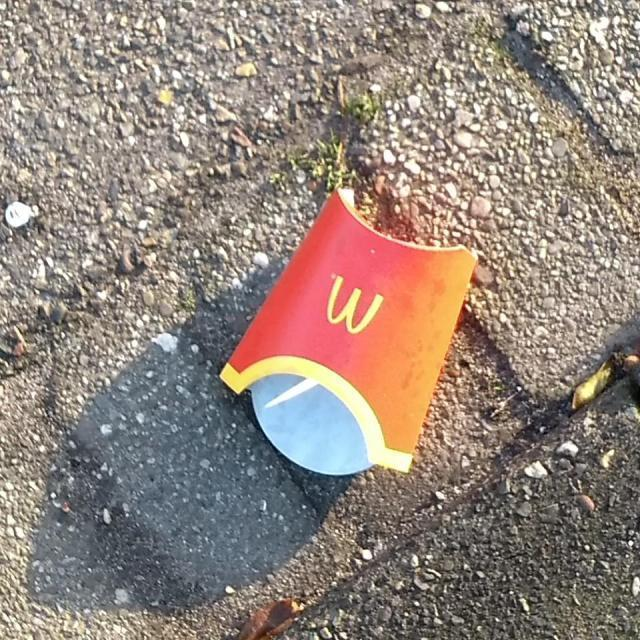Paper: (215, 182, 480, 483)
